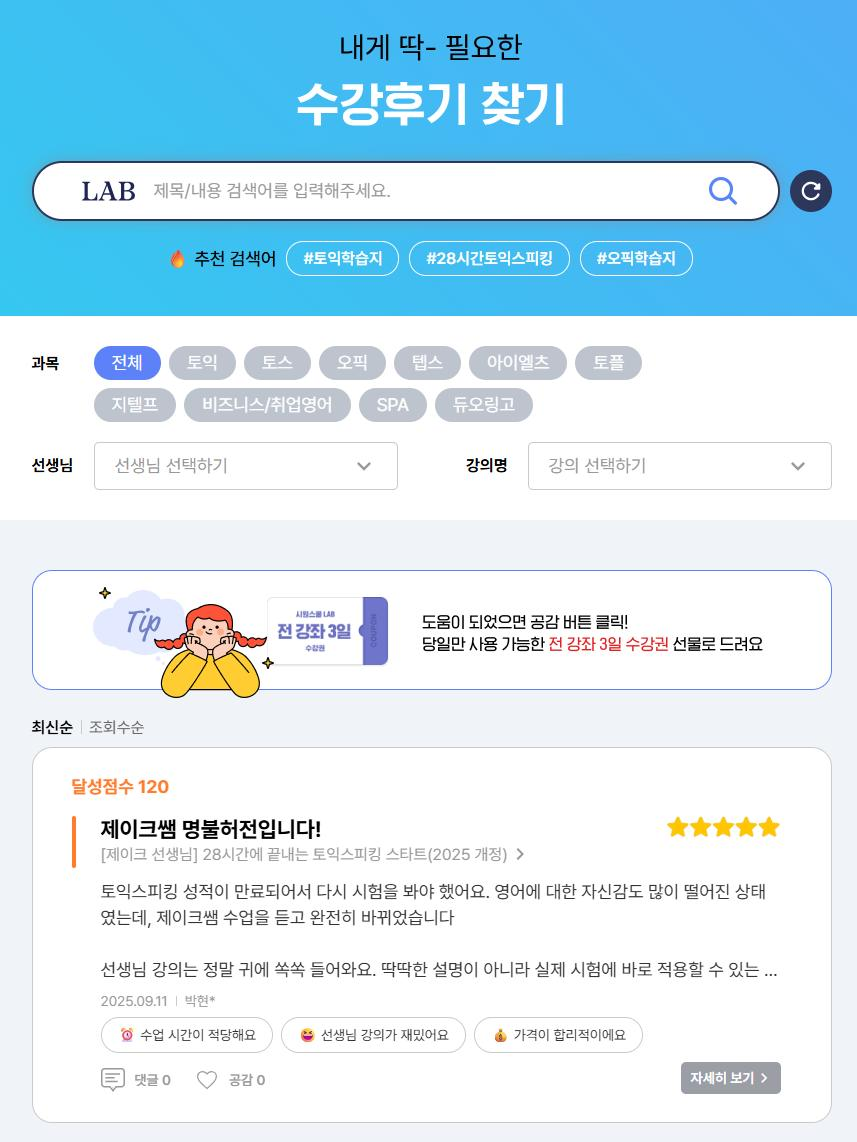button: (90, 848, 538, 873), (413, 240, 570, 278), (105, 1018, 267, 1052), (478, 1017, 635, 1052), (278, 1020, 453, 1048), (197, 393, 342, 418), (585, 242, 697, 273), (287, 247, 398, 277), (685, 1062, 777, 1095), (473, 348, 562, 382), (430, 388, 528, 417), (100, 388, 173, 415), (357, 392, 417, 422), (322, 350, 385, 378), (177, 345, 238, 373), (400, 345, 460, 373), (252, 348, 315, 373), (102, 345, 158, 373), (585, 348, 638, 373), (800, 170, 835, 193)
checkbox: (97, 443, 392, 495), (533, 445, 837, 495)
input_field: (55, 165, 762, 215)
